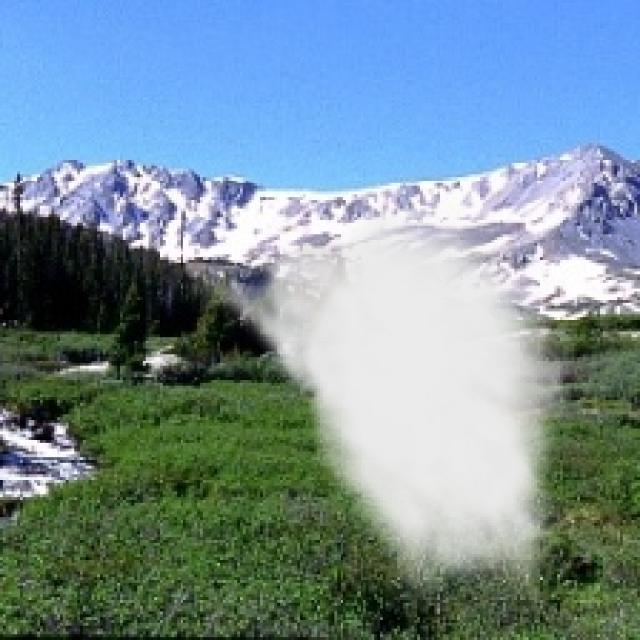Smoke: (188, 188, 578, 614)
